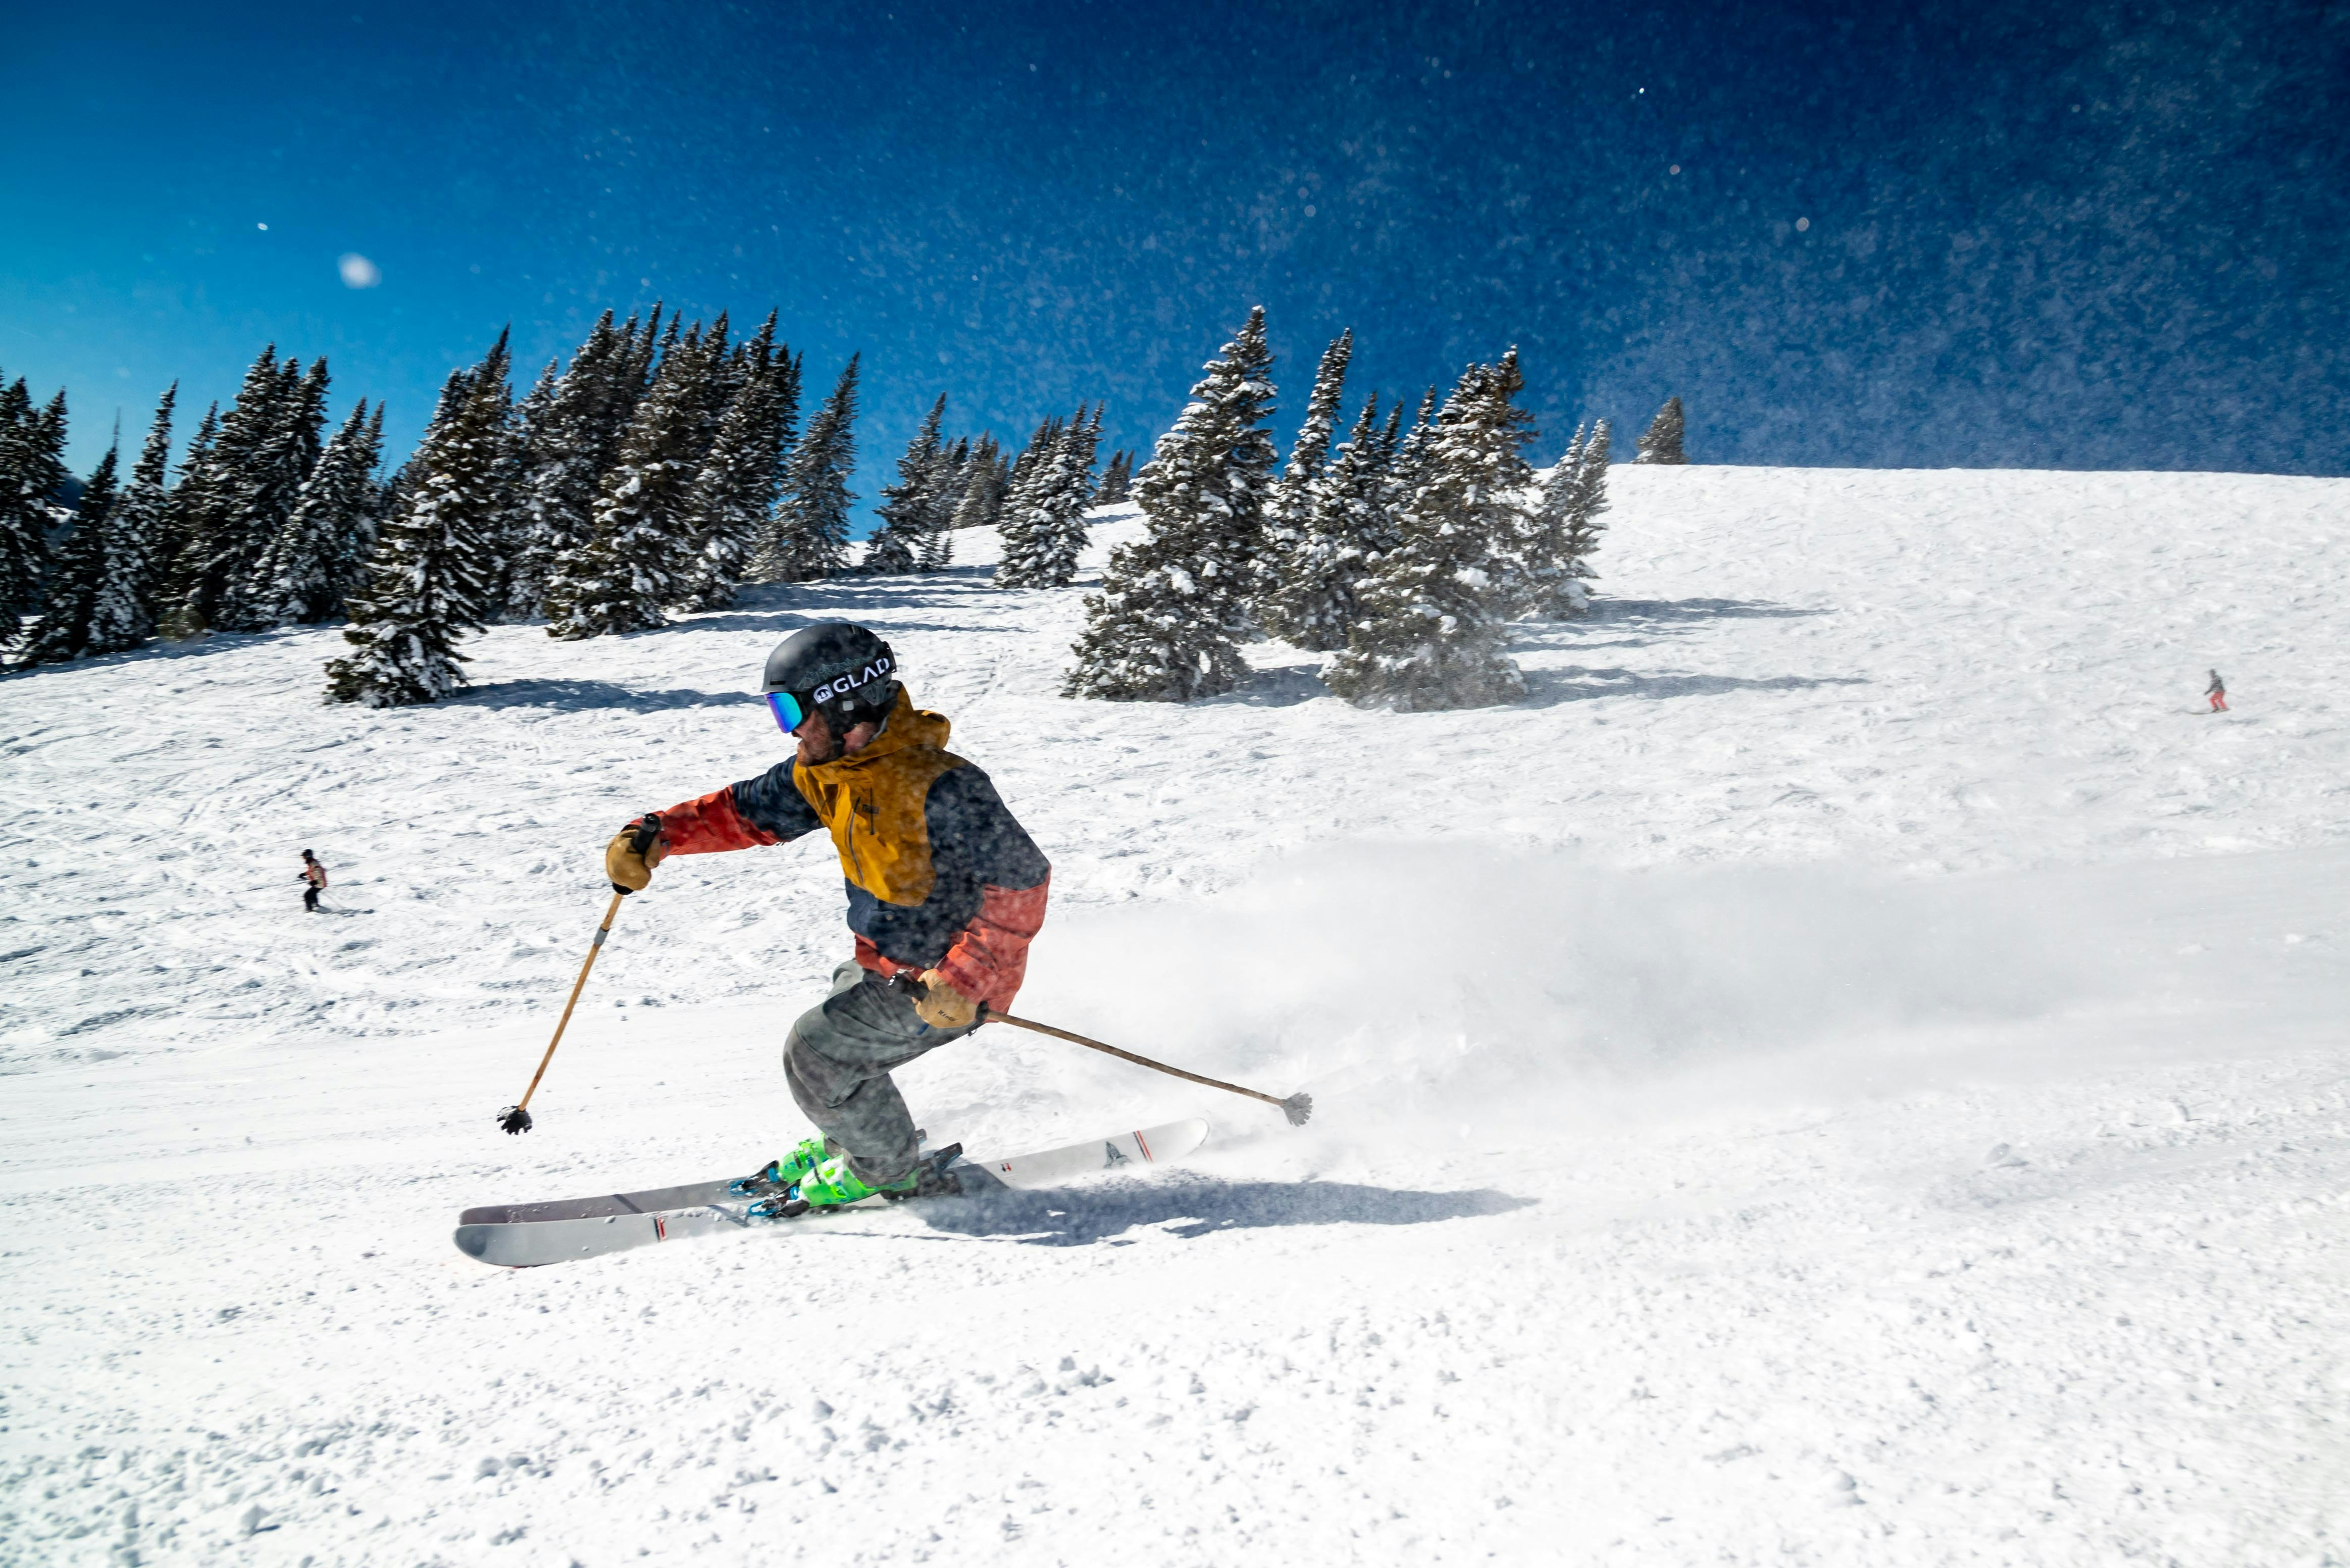skier: (450, 623, 1318, 1276), (282, 840, 350, 915), (2186, 661, 2243, 717)
